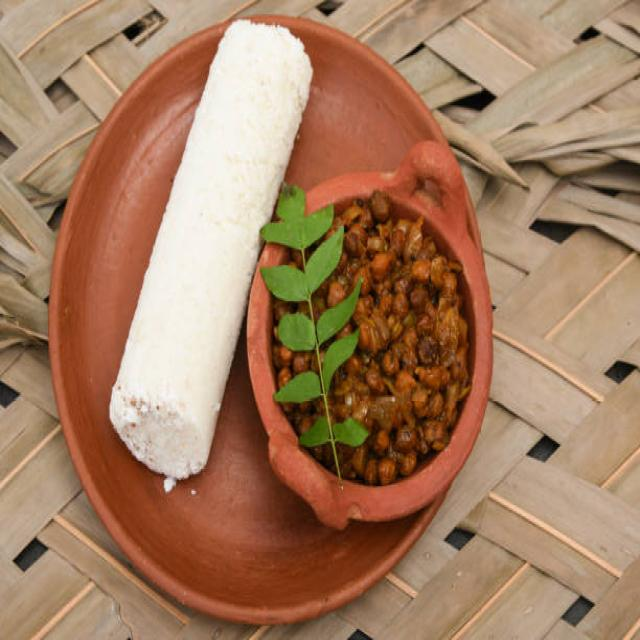CURRY: (271, 200, 475, 485)
PUTTU: (108, 21, 315, 485)
